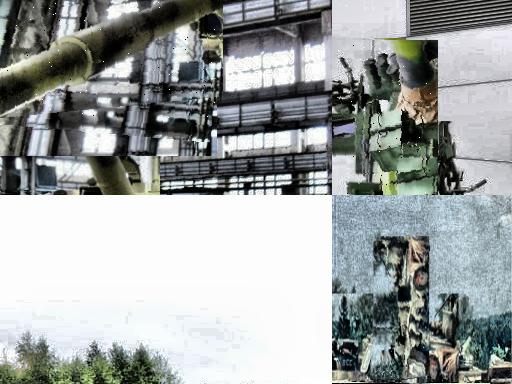tanks: (1, 1, 224, 115), (333, 41, 439, 196), (378, 238, 430, 382), (481, 355, 512, 384)
